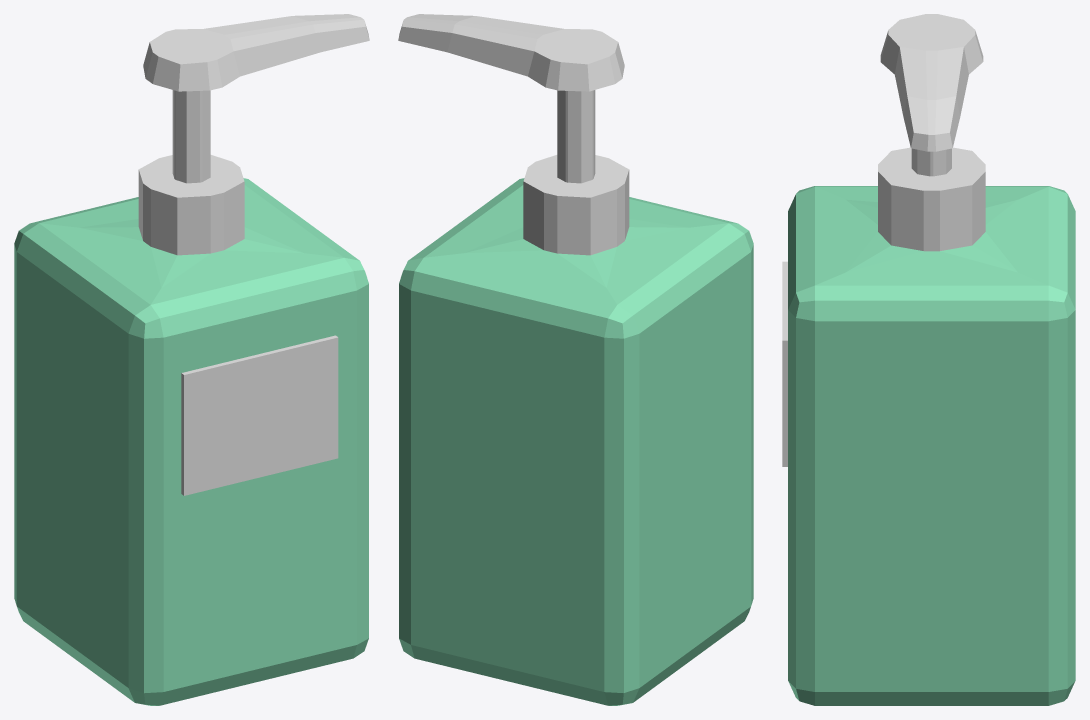
File: desinfetante.fbx
3 renders of one model, left to right at view 1: azimuth 30°, elevation 25°; view 2: azimuth 150°, elevation 25°; view 3: azimuth 270°, elevation 25°, orthographic. The views are drawn at different scales.
Visible parts, largest first — view 1: Desinfetante; view 2: Desinfetante; view 3: Desinfetante.
Boxes of the visible parts, left/top/right/bottom form: Desinfetante: left=14, top=14, right=369, bottom=705; Desinfetante: left=398, top=14, right=753, bottom=705; Desinfetante: left=782, top=14, right=1075, bottom=705.
Bounding box in the file's own units: 360 × 699 × 298.
